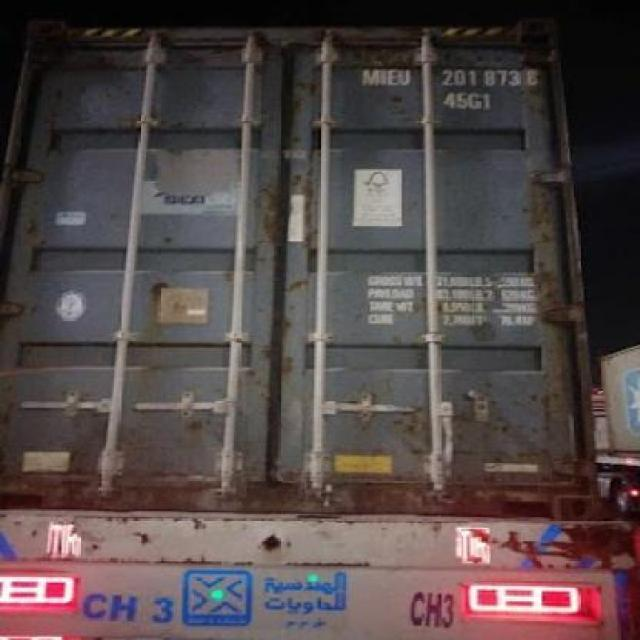ISO: (440, 90, 494, 112)
container_number: (364, 64, 531, 90)
